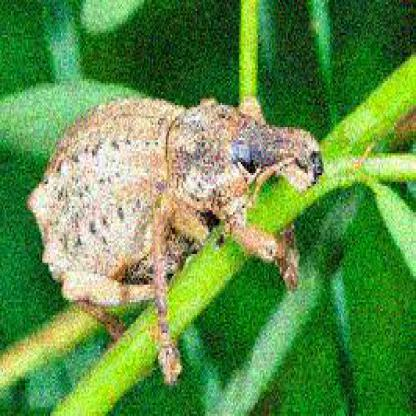ash weevil: (22, 95, 322, 390)
